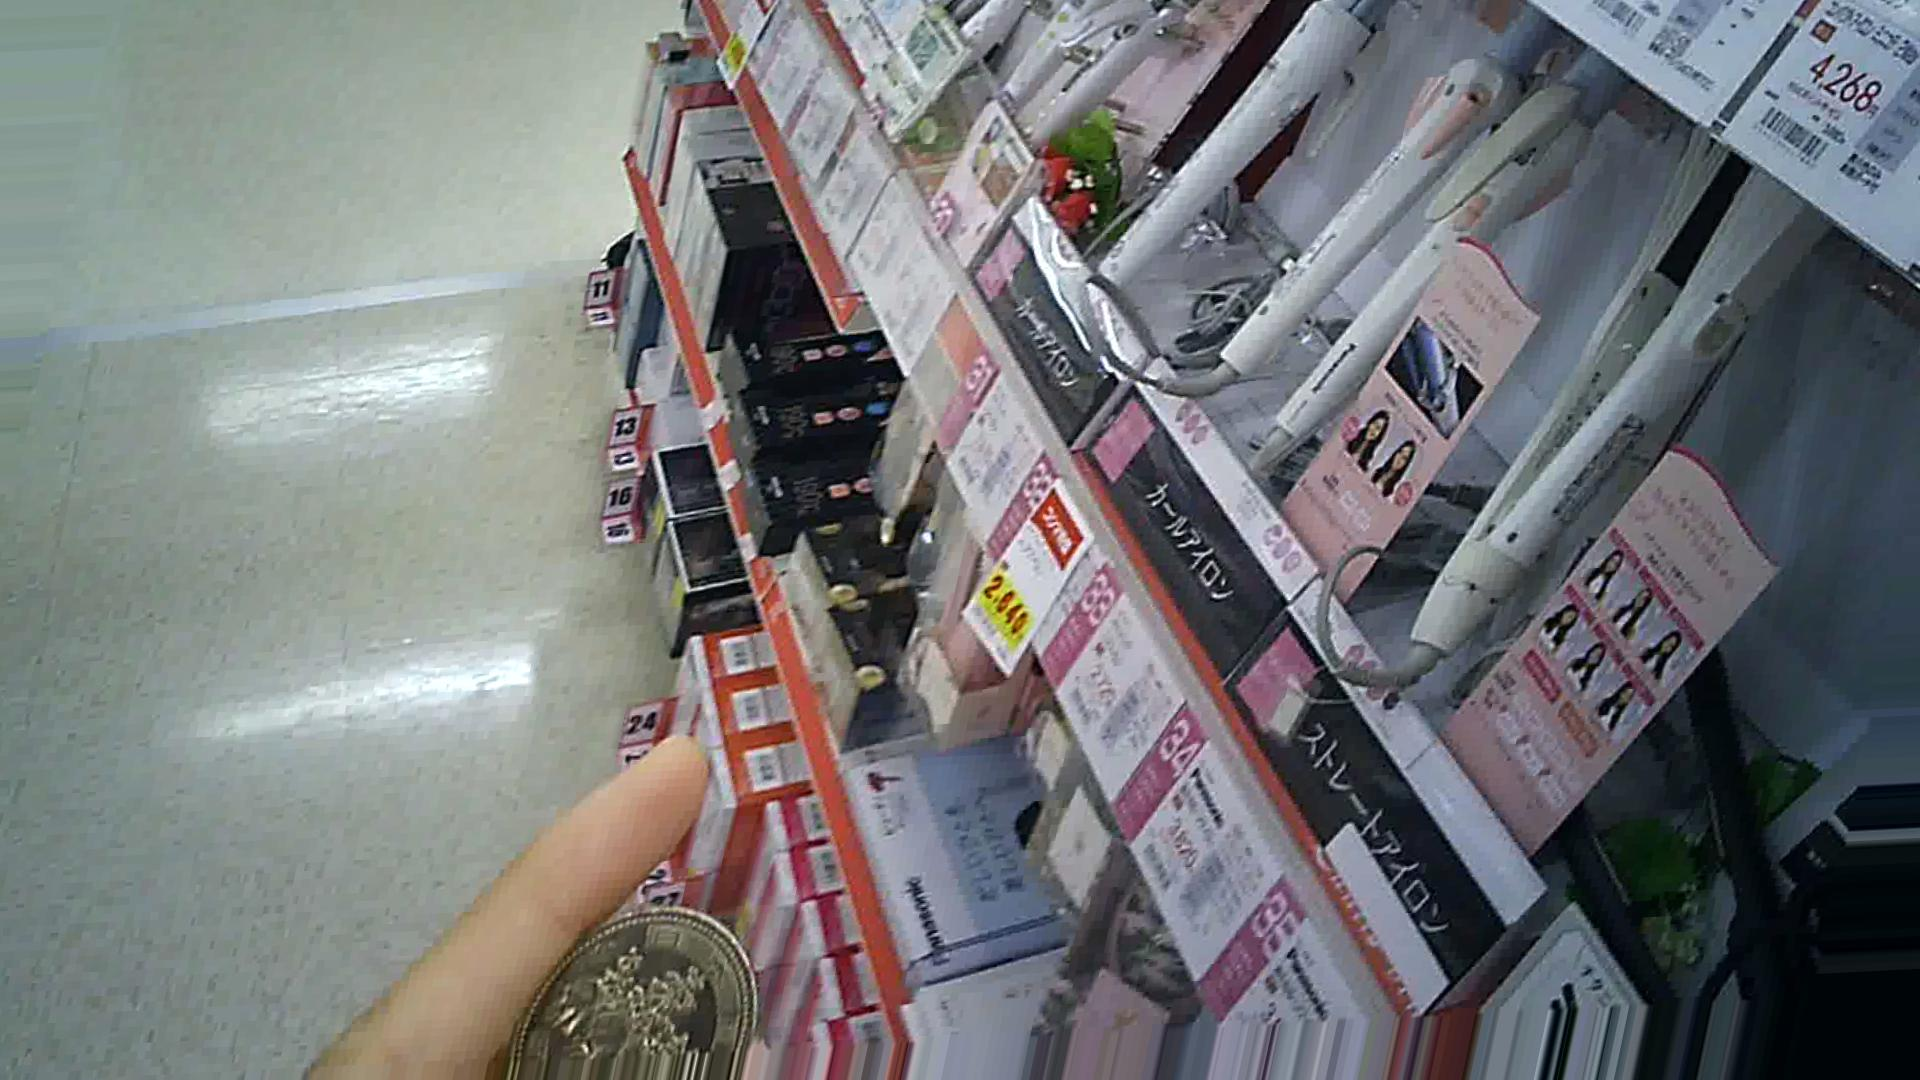500 Yen: (501, 897, 756, 1079)
